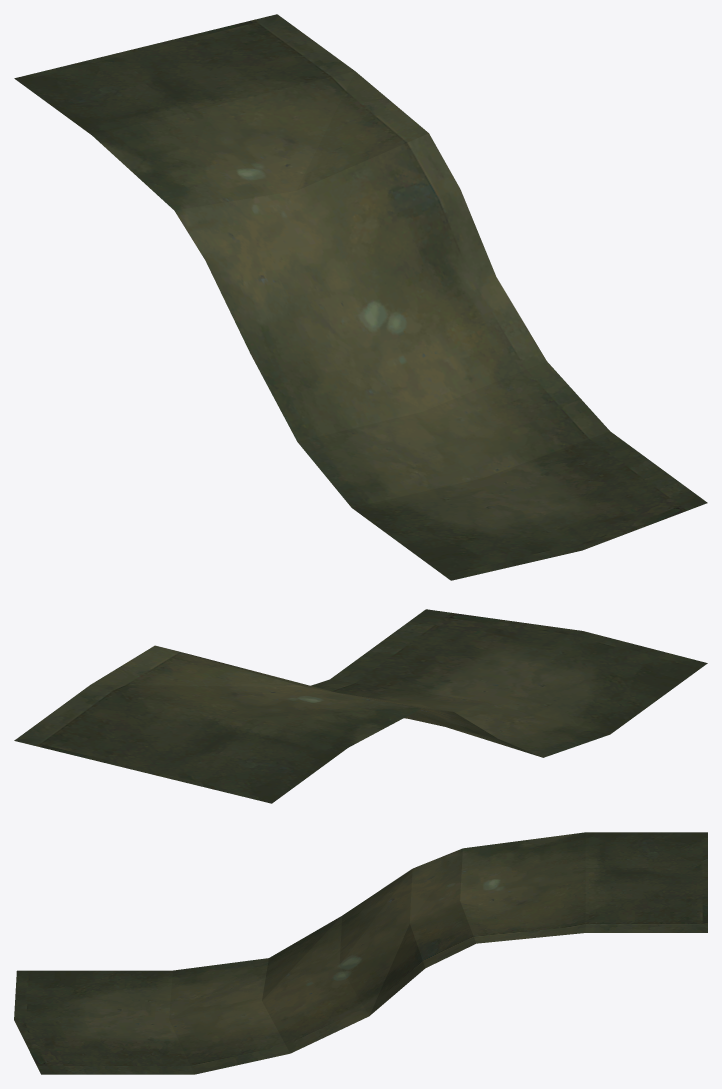
Rendered from tundra_ramproad01.fbx.
The picture shows the model from 3 angles, top to bottom: view 1: azimuth 30°, elevation 25°; view 2: azimuth 150°, elevation 25°; view 3: azimuth 270°, elevation 25°; orthographic projection. The views are drawn at different scales.
Parts seen in each view (by area): view 1: obj0.096; view 2: obj0.096; view 3: obj0.096.
Part boxes in pixels (x1,y1,x2,y2): obj0.096: (14, 14, 707, 580); obj0.096: (14, 609, 707, 803); obj0.096: (14, 832, 707, 1074).
Bounding box in the file's own units: 6.36 × 3.98 × 17.9.
